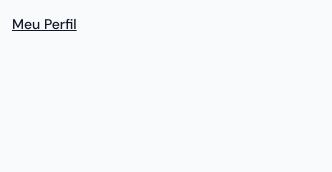
Test case: GuideContent › link interno navega pelo router
Click the link "Meu Perfil" at (44, 24), box [12,15,77,33]
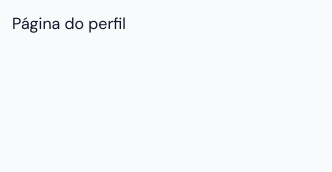
Expected: the text "Página do perfil" is shown, [12,13,126,34]
